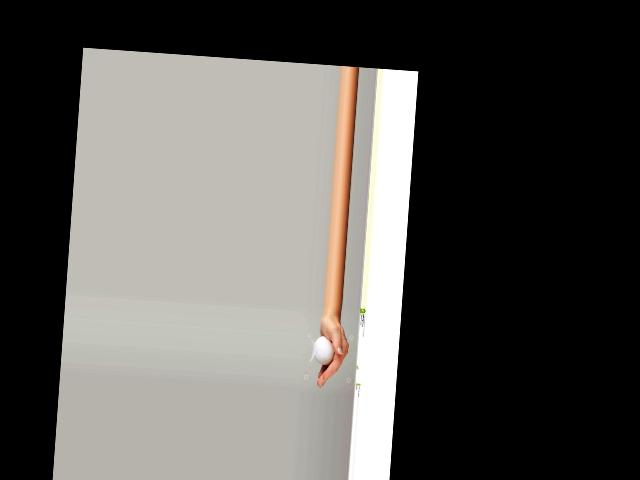egg: (313, 335, 335, 366)
